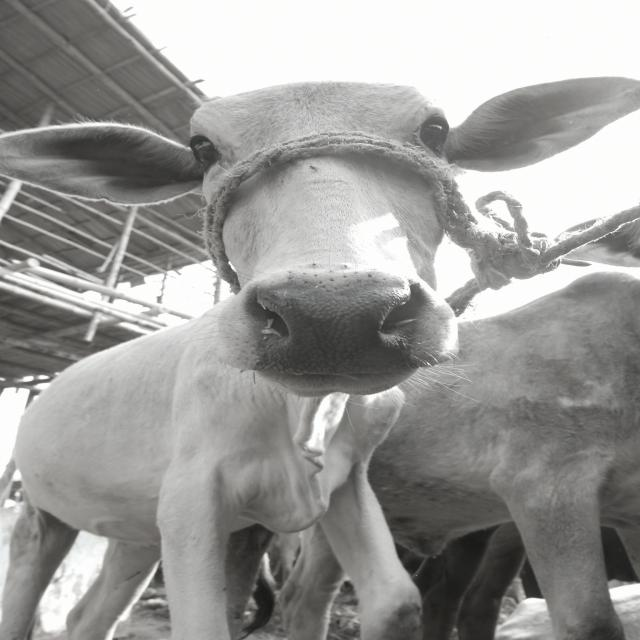muzzles: (228, 270, 444, 386)
